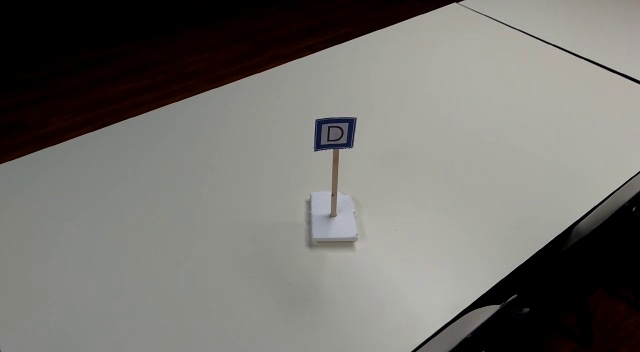durak: (314, 117, 356, 151)
